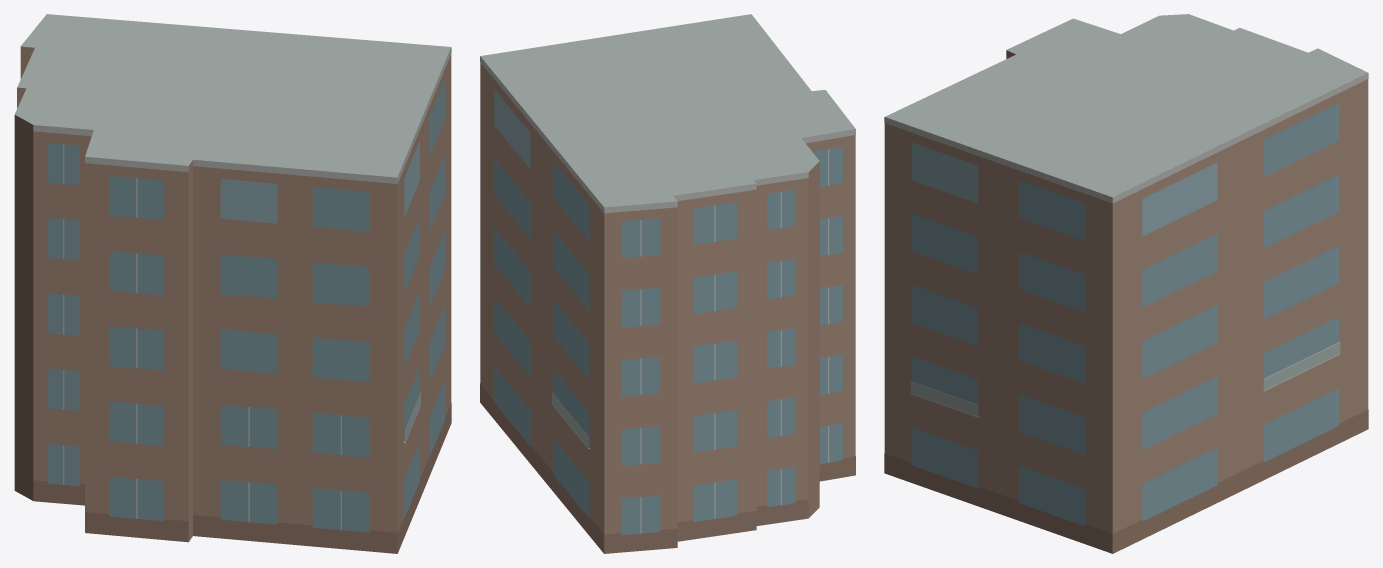
Rendered from survey-upis-32885613.glb.
3 views of the same model, side by side, from view 1: azimuth 30°, elevation 25°; view 2: azimuth 150°, elevation 25°; view 3: azimuth 270°, elevation 25° (orthographic). The views are drawn at different scales.
Parts seen in each view (by area): view 1: survey-upis-32885613.tmp; view 2: survey-upis-32885613.tmp; view 3: survey-upis-32885613.tmp.
Part boxes in pixels (x1,y1,x2,y2): survey-upis-32885613.tmp: (14,14,451,553); survey-upis-32885613.tmp: (480,14,855,553); survey-upis-32885613.tmp: (884,14,1368,553).
Size of the model in its own units: 15.79 by 14.3 by 17.6.
